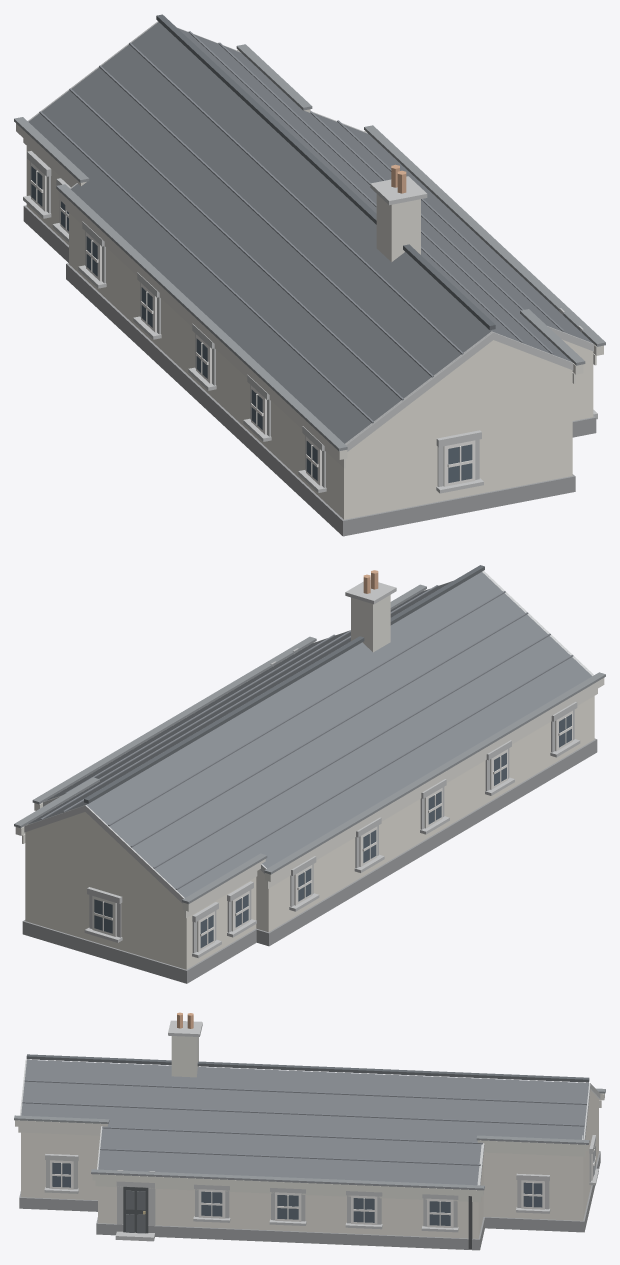
The picture shows the model from 3 angles, top to bottom: view 1: azimuth 30°, elevation 25°; view 2: azimuth 150°, elevation 25°; view 3: azimuth 270°, elevation 25°; orthographic projection. The views are drawn at different scales.
Parts seen in each view (by area): view 1: slate, harl_cream, plinth, lead, stone_band, slate_lt, string, slate_dk, frame, chim_render, window_glass_015; view 2: slate, harl_cream, plinth, stone_band, lead, slate_lt, string, slate_dk, frame, chim_render; view 3: slate, harl_cream, plinth, string, stone_band, slate_lt, lead, slate_dk, frame, chim_render, door_dark_p, door_dark (+6 smaller).
Part boxes in pixels (x1=…): slate: x1=28, y1=22, x2=592, y2=443; harl_cream: x1=26, y1=146, x2=593, y2=519; plinth: x1=23, y1=205, x2=596, y2=536; lead: x1=14, y1=44, x2=605, y2=451; stone_band: x1=23, y1=21, x2=597, y2=493; slate_lt: x1=39, y1=31, x2=564, y2=423; string: x1=16, y1=50, x2=603, y2=468; slate_dk: x1=156, y1=14, x2=495, y2=329; frame: x1=30, y1=162, x2=475, y2=486; chim_render: x1=376, y1=194, x2=420, y2=262; window_glass_015: x1=448, y1=444, x2=472, y2=482; slate: x1=27, y1=572, x2=591, y2=897; harl_cream: x1=25, y1=696, x2=594, y2=969; plinth: x1=22, y1=738, x2=597, y2=983; stone_band: x1=24, y1=570, x2=593, y2=957; lead: x1=14, y1=584, x2=605, y2=904; slate_lt: x1=40, y1=585, x2=573, y2=889; string: x1=15, y1=589, x2=604, y2=918; slate_dk: x1=84, y1=565, x2=484, y2=803; frame: x1=92, y1=710, x2=572, y2=951; chim_render: x1=351, y1=595, x2=390, y2=652; slate: x1=21, y1=1059, x2=588, y2=1185; harl_cream: x1=21, y1=1090, x2=598, y2=1238; plinth: x1=19, y1=1151, x2=600, y2=1250; string: x1=15, y1=1093, x2=604, y2=1202; stone_band: x1=20, y1=1020, x2=600, y2=1241; slate_lt: x1=22, y1=1080, x2=586, y2=1165; lead: x1=14, y1=1088, x2=605, y2=1190; slate_dk: x1=26, y1=1054, x2=589, y2=1082; frame: x1=50, y1=1146, x2=595, y2=1228; chim_render: x1=171, y1=1036, x2=198, y2=1077; door_dark_p: x1=126, y1=1190, x2=145, y2=1233; door_dark: x1=123, y1=1186, x2=148, y2=1233.
Size of the model in its own units: 10.89 by 7.27 by 22.34.
